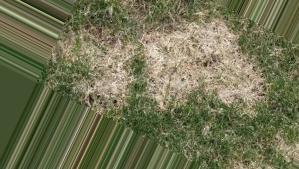patch: (148, 38, 258, 94), (94, 55, 141, 93), (195, 27, 230, 46)
